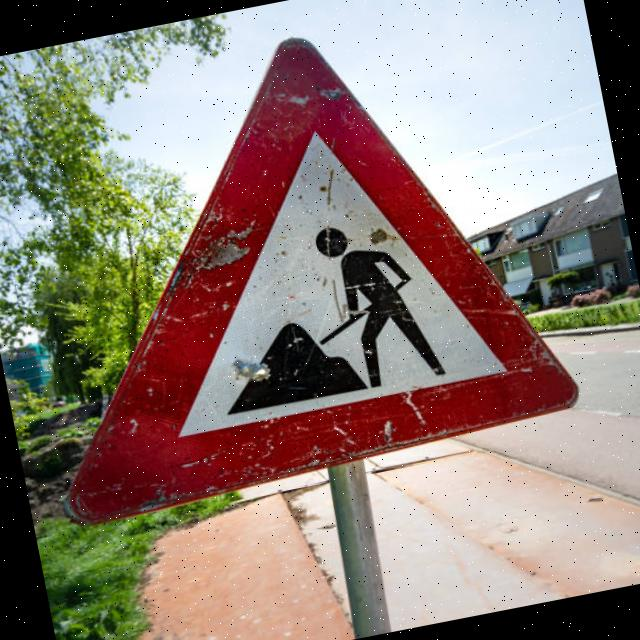road_work: (0, 0, 588, 535)
